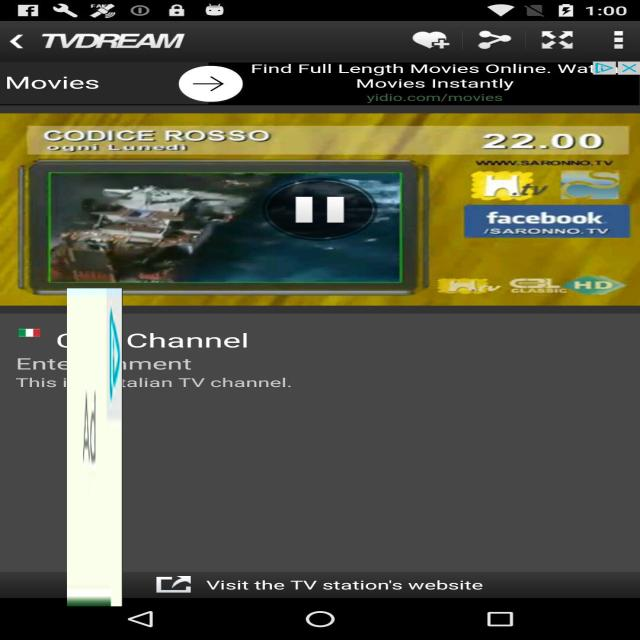sneaking: (67, 288, 123, 606)
